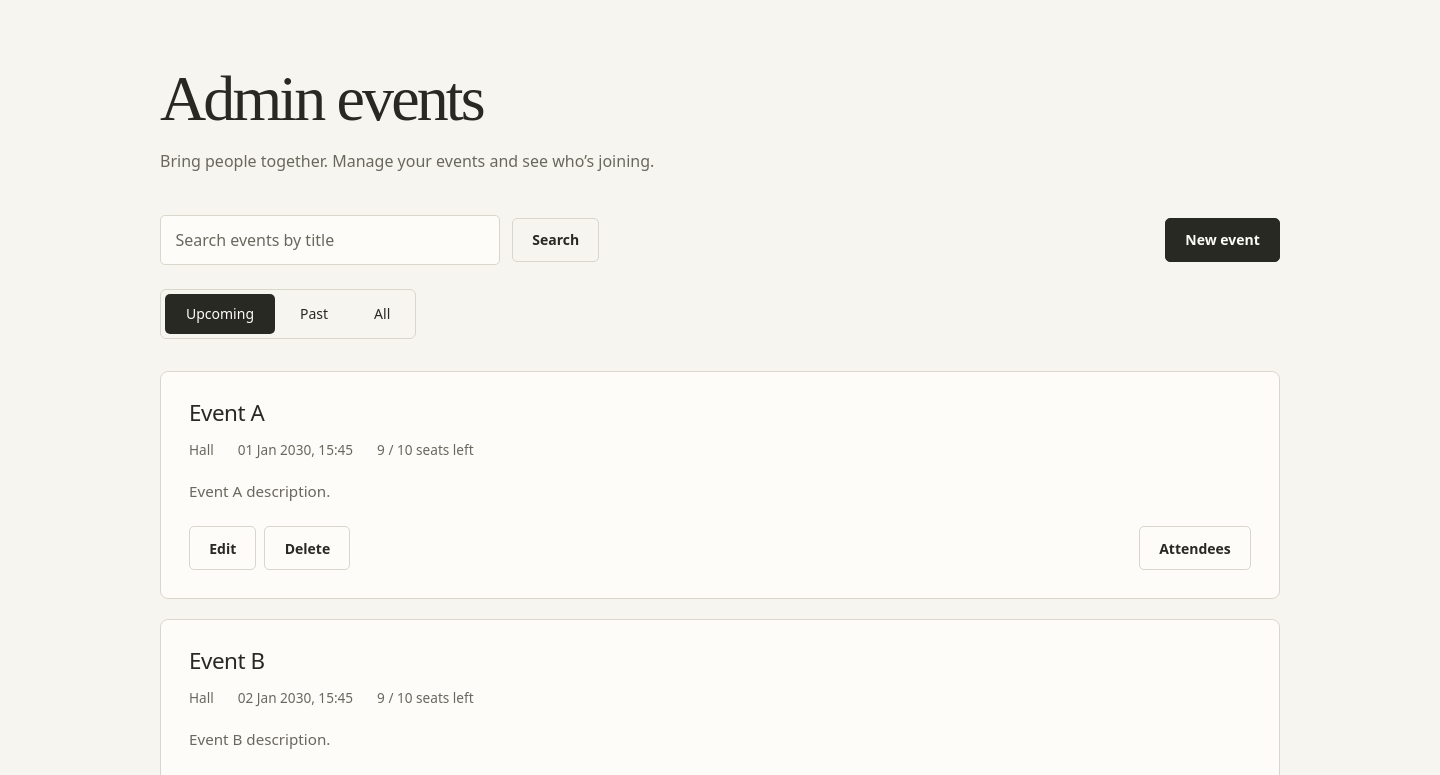
it: started events are read-only › does not show old event attendees while another event is loading or after a stale response
Check: the heading "Event A" is shown, box [189,397,264,428]
Click the 1st button "Attendees" at (1195, 548), box [1139,526,1251,570]
(page scrolled)
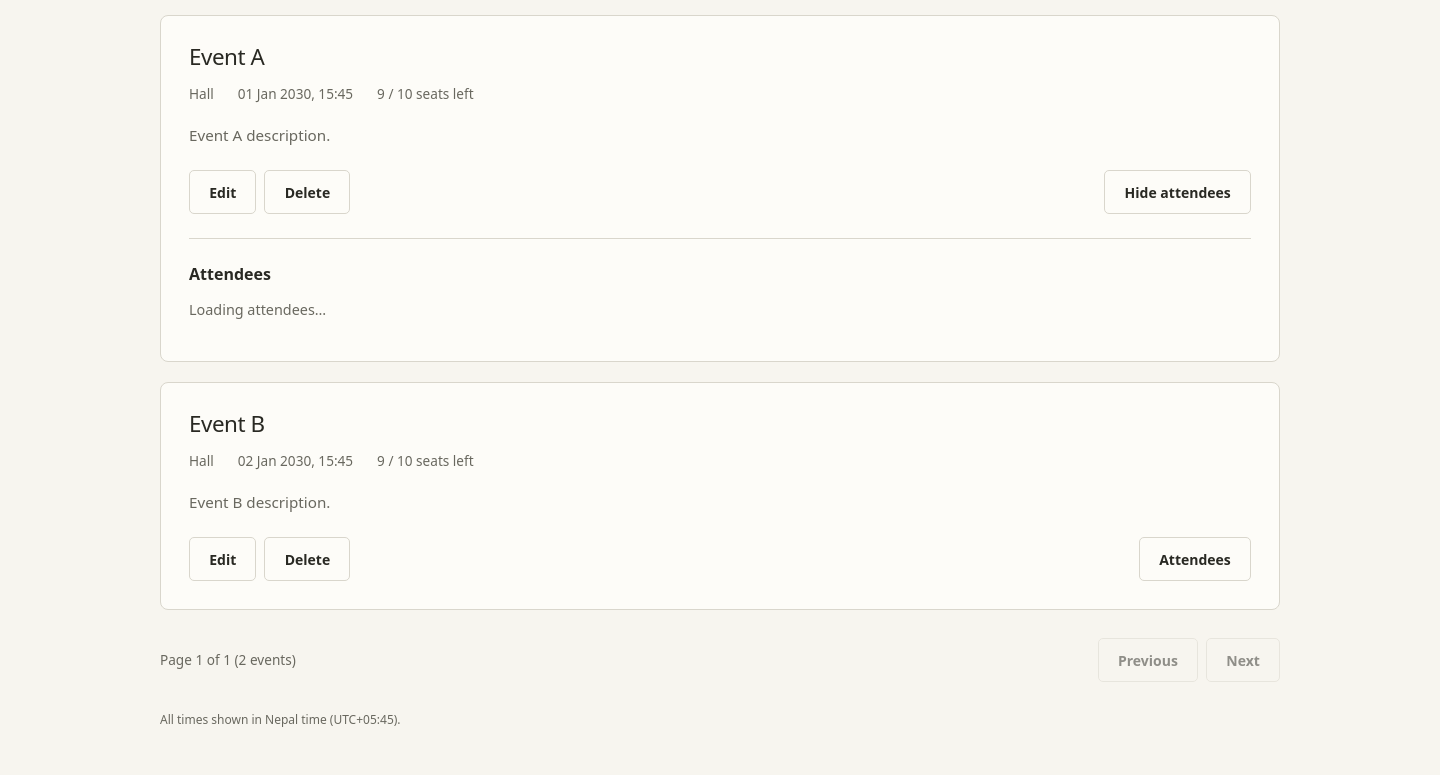
Check: the message shows "Loading attendees", box [189,300,326,319]
Click the button "Attendees" at (1195, 559), box [1139,537,1251,581]
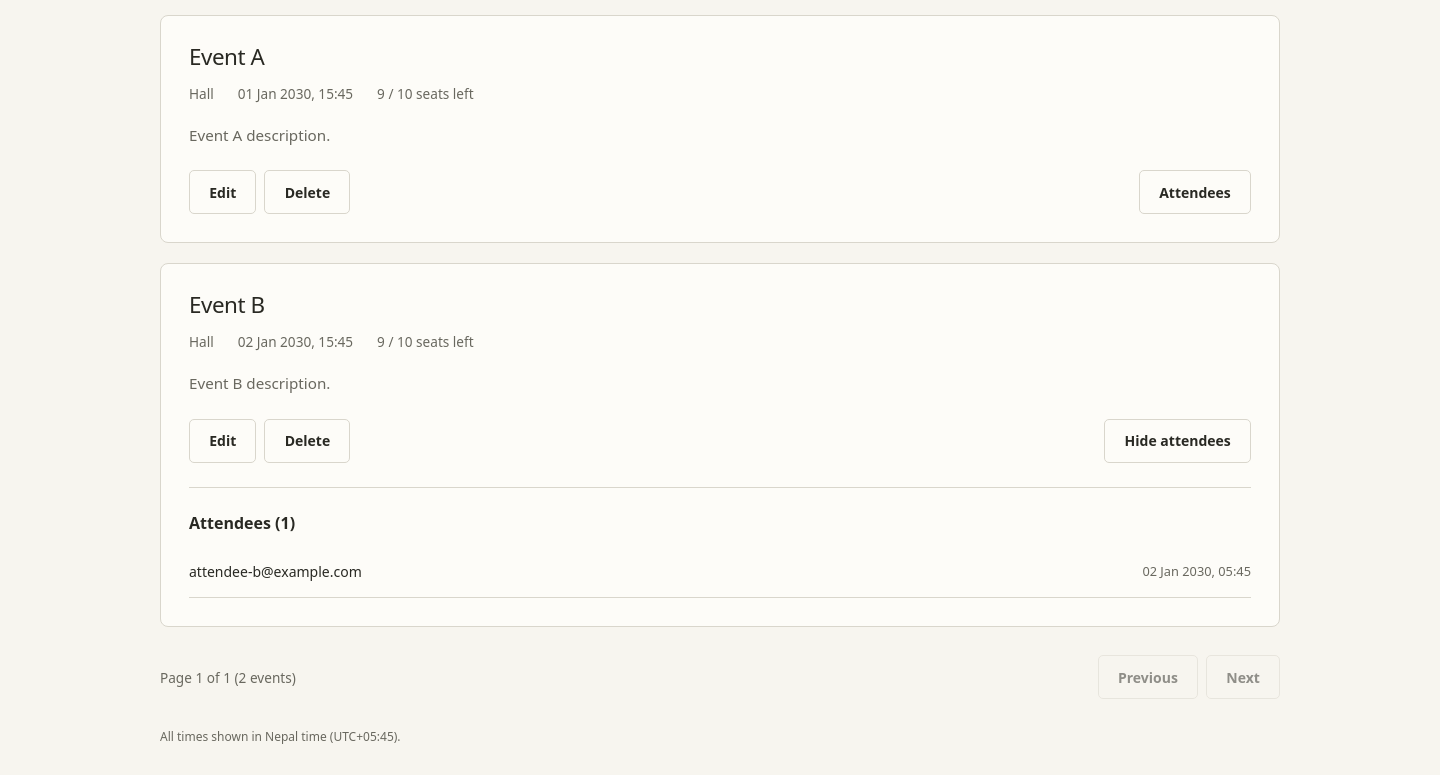
Check: the text "attendee-b@example.com" is shown, box [189,561,362,583]
